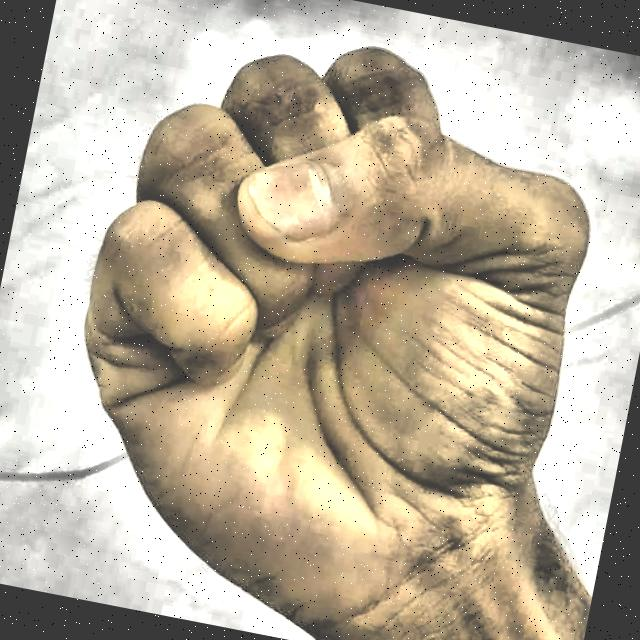Sha: (10, 0, 640, 640)
